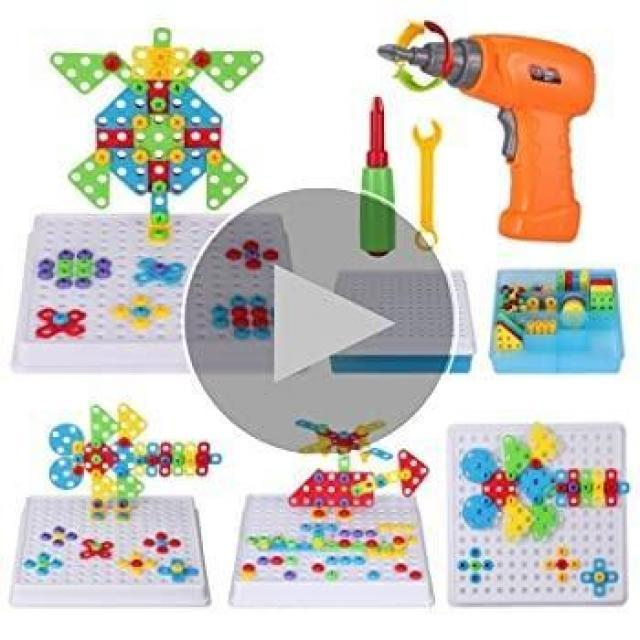drill: (374, 35, 596, 244)
